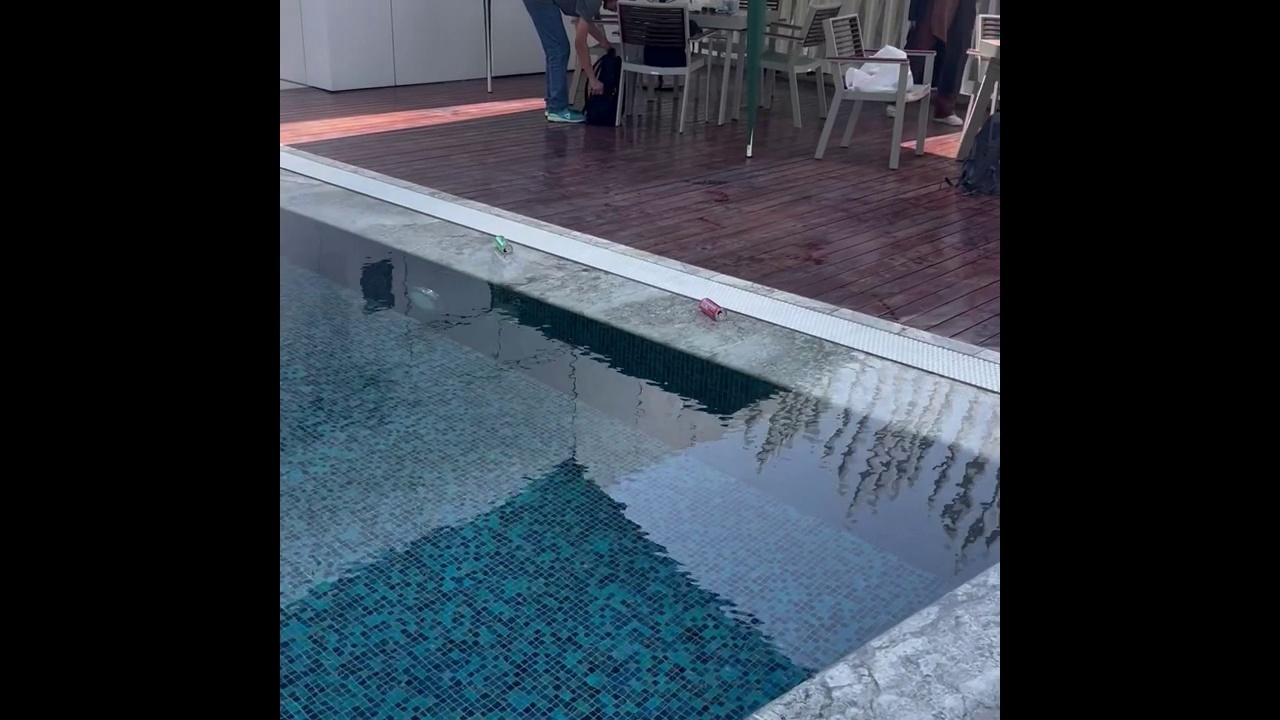debris: (694, 295, 728, 325), (492, 232, 518, 259)
